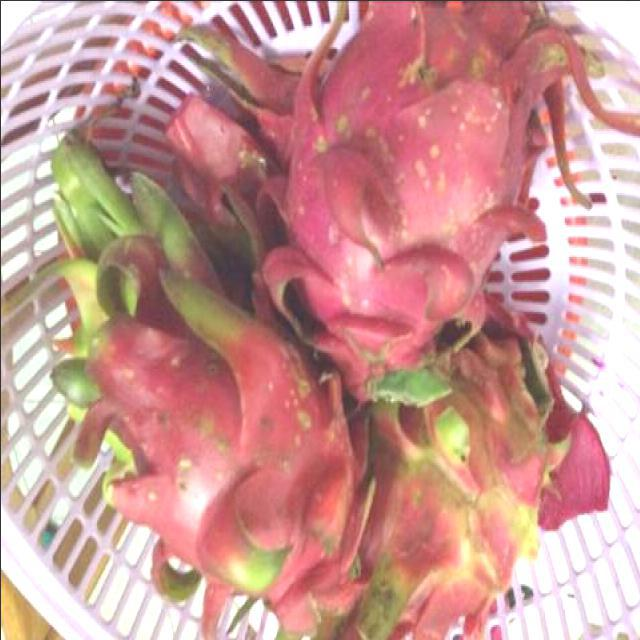do: (46, 134, 364, 639), (281, 1, 564, 374), (341, 332, 560, 639)
